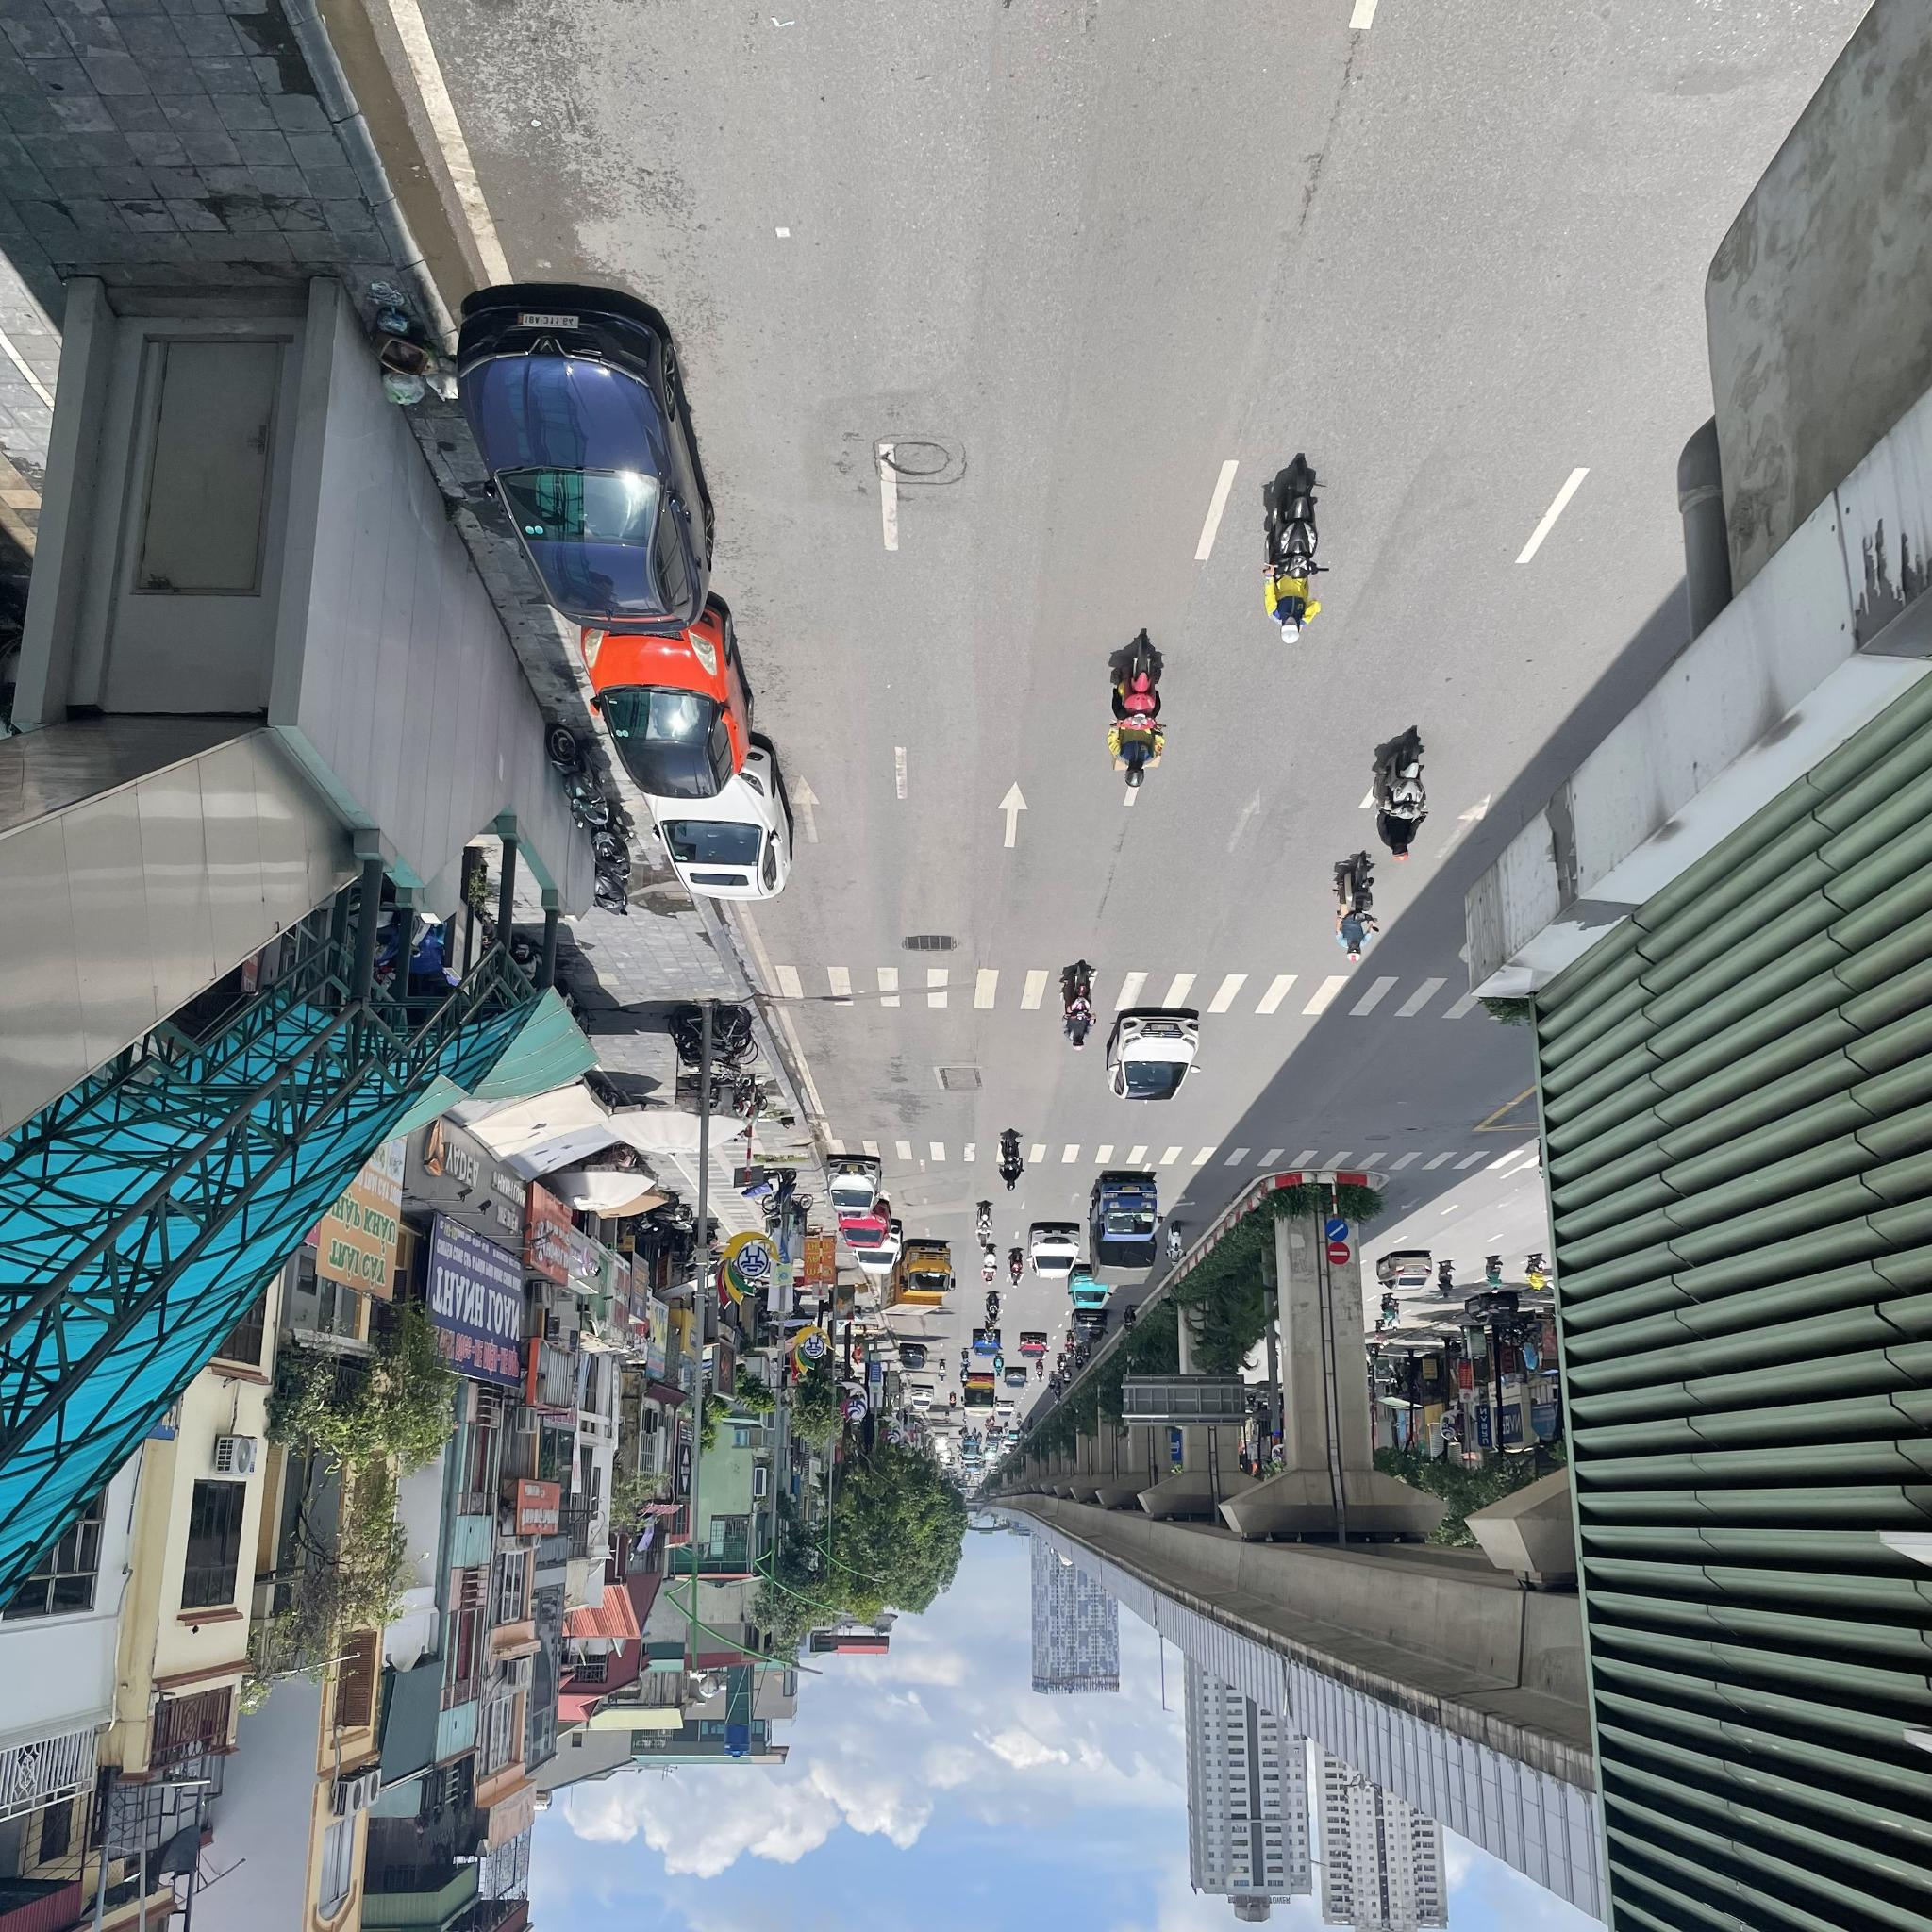car: (464, 295, 709, 630), (605, 603, 761, 791), (665, 743, 789, 899), (1108, 1014, 1194, 1118), (1097, 1173, 1159, 1283), (879, 1247, 952, 1313), (828, 1148, 883, 1215), (1026, 1221, 1077, 1277), (837, 1198, 893, 1249), (851, 1226, 904, 1274), (1069, 1263, 1109, 1306), (961, 1375, 994, 1415), (1070, 1307, 1109, 1341), (899, 1345, 931, 1371), (973, 1330, 1001, 1359), (1019, 1334, 1049, 1361), (913, 1385, 934, 1410), (1007, 1368, 1028, 1389), (1000, 1403, 1016, 1417)
motobike: (1258, 451, 1332, 646), (1108, 630, 1171, 798), (1371, 722, 1438, 865), (1058, 947, 1102, 1049), (1001, 1131, 1024, 1191), (975, 1198, 993, 1253), (1003, 1246, 1024, 1288), (1166, 1219, 1184, 1269), (982, 1247, 1000, 1286), (985, 1293, 1001, 1327), (1123, 1302, 1136, 1336), (991, 1353, 1005, 1376), (1063, 1334, 1077, 1357), (962, 1345, 973, 1373), (1074, 1348, 1086, 1371), (1035, 1364, 1046, 1385), (939, 1359, 948, 1384), (1049, 1369, 1058, 1394), (950, 1389, 959, 1412), (1081, 1345, 1093, 1361), (1063, 1368, 1072, 1389), (1058, 1355, 1069, 1371)
